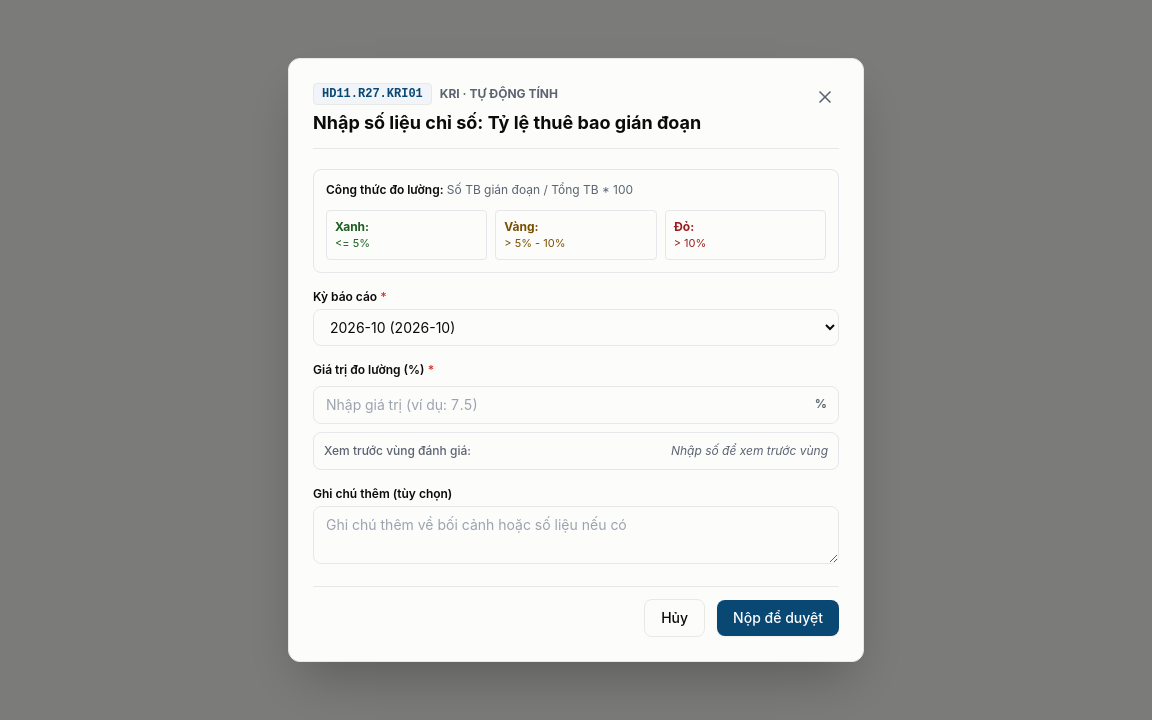
Test: ReadingForm component › maps fieldErrors from API to corresponding form fields
The image size is (1152, 720).
In the number field labelled "Giá trị đo lường (%) *": (576, 405) x1=313 y1=386 x2=839 y2=424, type "50"
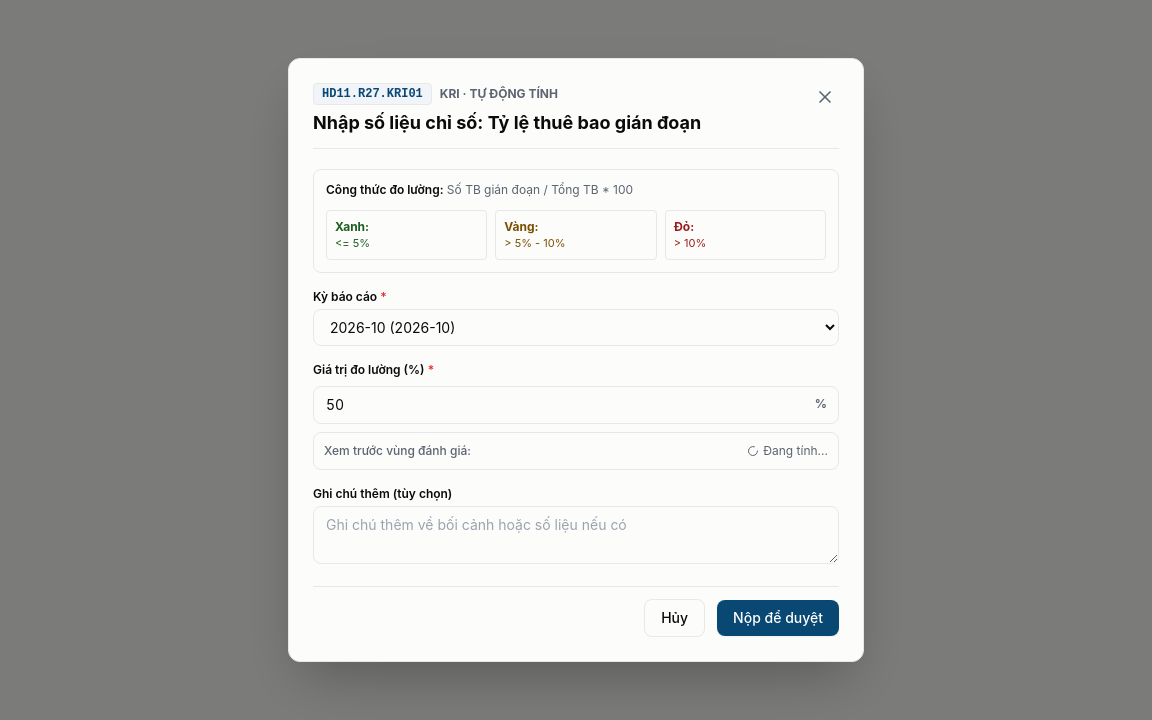
Click the button "Nộp để duyệt": (778, 618) x1=717 y1=600 x2=839 y2=636
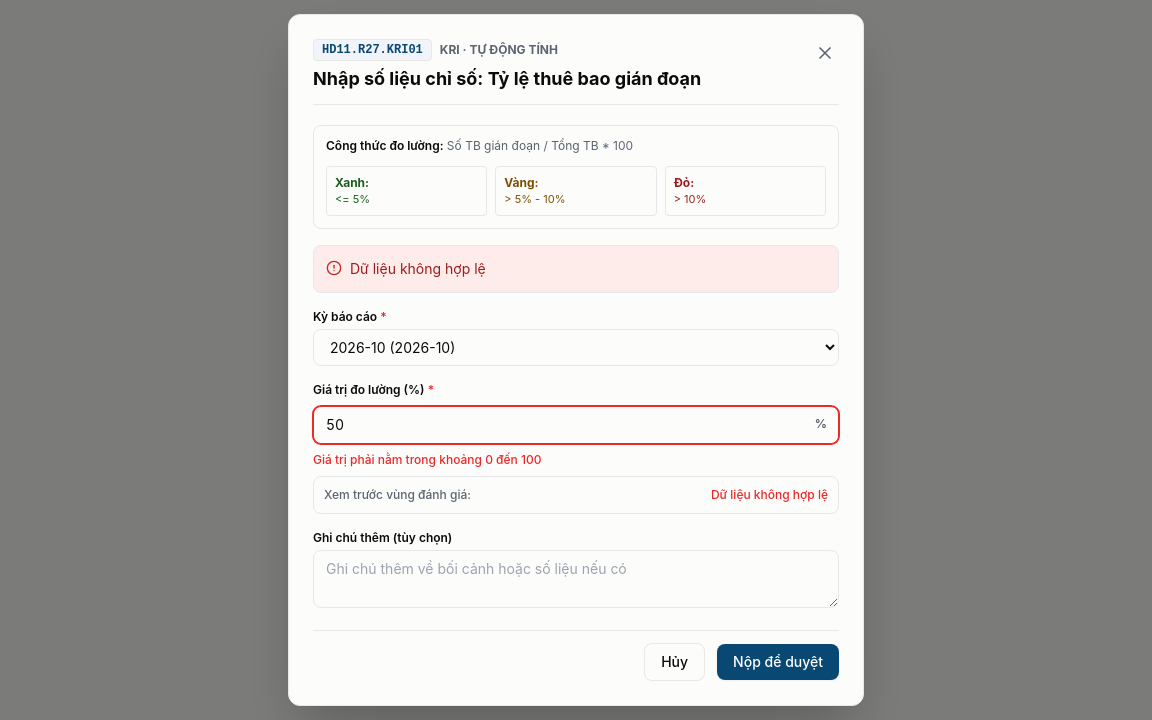
Now the text "Giá trị phải nằm trong khoảng 0 đến 100" is shown, box x1=313 y1=452 x2=542 y2=467
